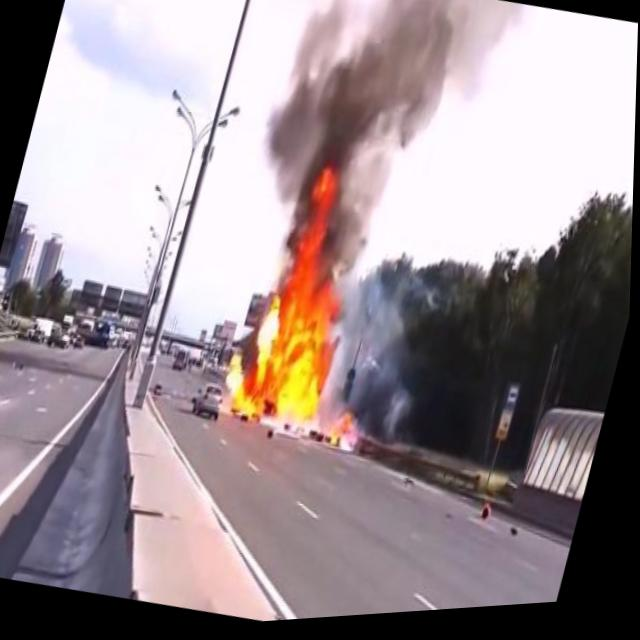fire: (206, 134, 426, 469)
